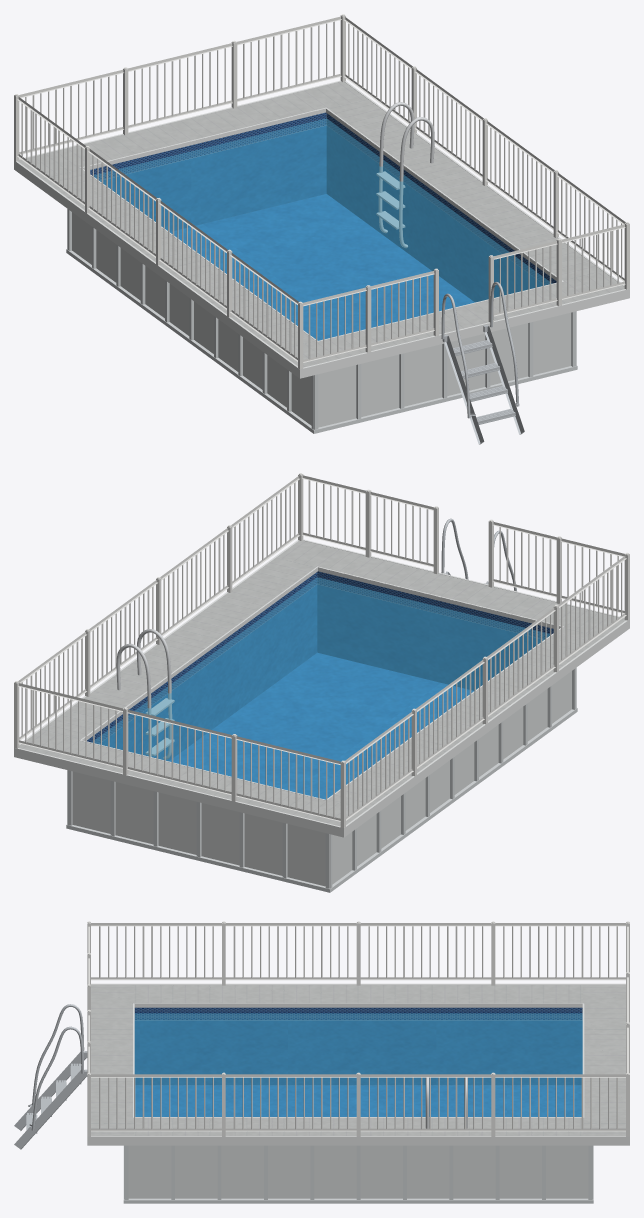
Rendered from kayak-pool-12x20-white-walk-ag-fence.0e14b333e5.glb.
3 views of the same model, one above another, from view 1: azimuth 30°, elevation 25°; view 2: azimuth 150°, elevation 25°; view 3: azimuth 270°, elevation 25° (orthographic). The views are drawn at different scales.
Visible parts, largest first — view 1: water, fence, liner_wall, deck, liner_floor, wall, fascia, upright, ladder, steel; view 2: water, fence, liner_wall, deck, wall, liner_floor, fascia, upright, steel, ladder; view 3: water, liner_wall, deck, fence, wall, liner_floor, fascia, upright, ladder, steel.
Boxes of the visible parts, x1,y1,x2,y2 form: water: [94, 118, 551, 340]; fence: [14, 14, 629, 369]; liner_wall: [90, 112, 556, 302]; deck: [18, 81, 624, 367]; liner_floor: [170, 194, 474, 340]; wall: [72, 212, 571, 427]; fascia: [14, 80, 629, 378]; upright: [66, 209, 577, 433]; ladder: [441, 282, 524, 444]; steel: [376, 102, 434, 247]; water: [92, 577, 549, 799]; fence: [14, 473, 629, 828]; liner_wall: [87, 571, 553, 761]; deck: [19, 540, 625, 826]; wall: [72, 671, 571, 886]; liner_floor: [169, 652, 473, 799]; fascia: [14, 539, 629, 837]; upright: [66, 667, 577, 892]; steel: [116, 629, 174, 759]; ladder: [441, 518, 516, 591]; water: [134, 1013, 582, 1116]; liner_wall: [134, 1007, 582, 1085]; deck: [91, 985, 625, 1135]; fence: [87, 921, 629, 1136]; wall: [128, 1145, 588, 1198]; liner_floor: [135, 1085, 581, 1116]; fascia: [87, 983, 629, 1145]; upright: [123, 1145, 593, 1203]; ladder: [14, 1004, 87, 1149]; steel: [425, 1077, 467, 1128].
Size of the model in its own units: 4.88 by 2.15 by 8.3.
Materials: 11 (3 with a texture image).
